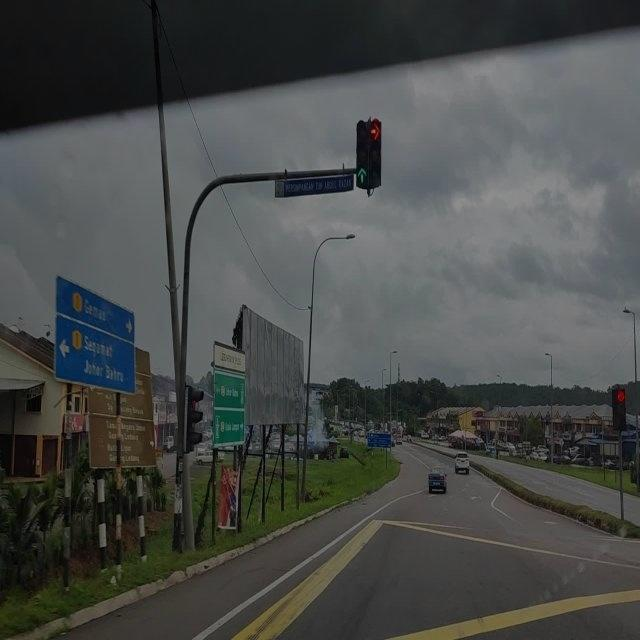Green: (356, 120, 370, 188)
Red: (369, 118, 381, 188), (616, 387, 627, 428)
